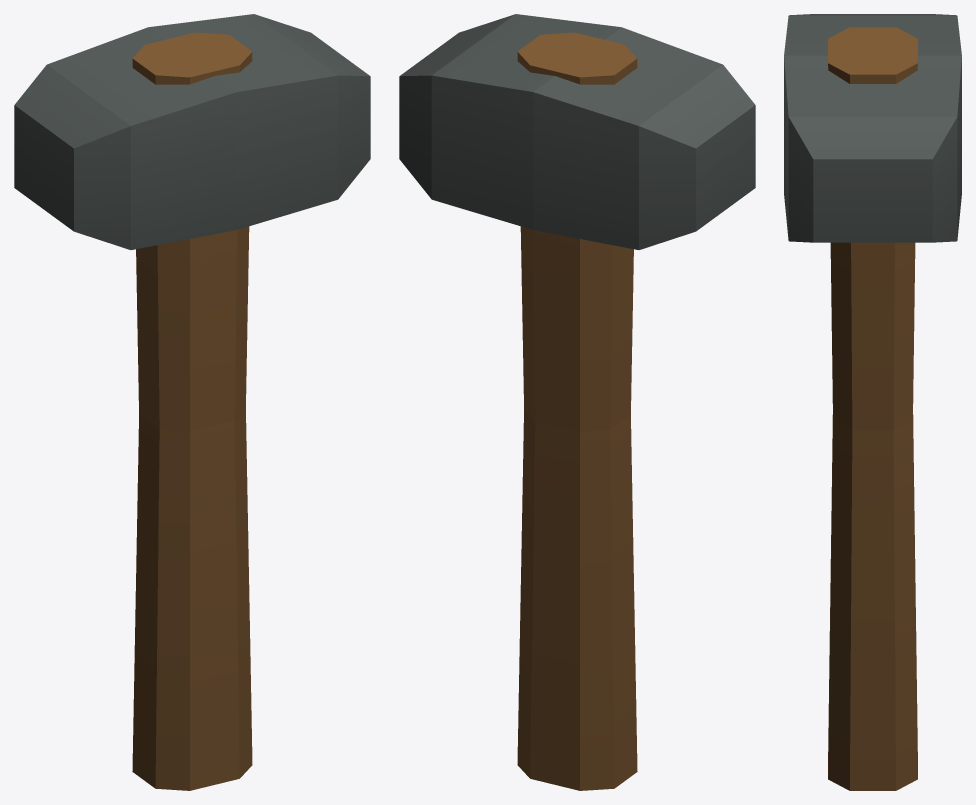
Rendered from Tool_Hammer_04.obj.
3 renders of one model, left to right at view 1: azimuth 30°, elevation 25°; view 2: azimuth 150°, elevation 25°; view 3: azimuth 270°, elevation 25°, orthographic.
Visible parts, largest first — view 1: Tool_Hammer_04; view 2: Tool_Hammer_04; view 3: Tool_Hammer_04.
Part boxes in pixels (bbox=[...]): Tool_Hammer_04: bbox=[14, 14, 370, 790]; Tool_Hammer_04: bbox=[399, 14, 755, 790]; Tool_Hammer_04: bbox=[784, 14, 961, 790].
Size of the model in its own units: 0.122 by 0.2804 by 0.0631.
1 material, 1 textured.
